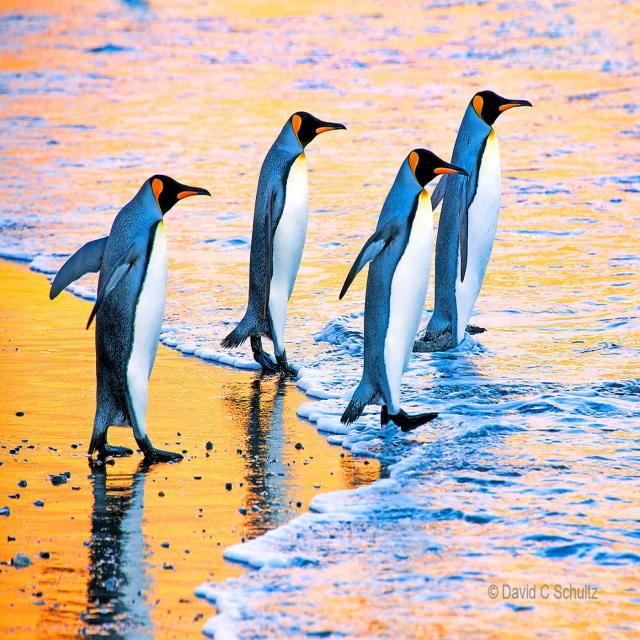Penguins: (88, 155, 189, 467), (429, 80, 526, 368), (242, 102, 329, 392), (362, 144, 443, 436)
